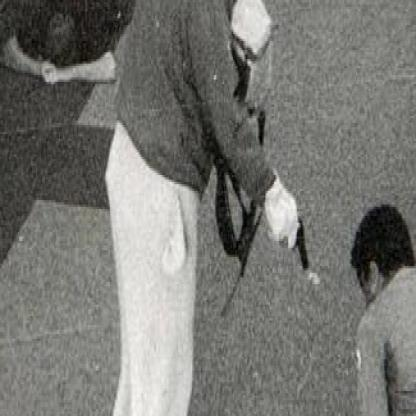gun: (276, 195, 315, 282)
